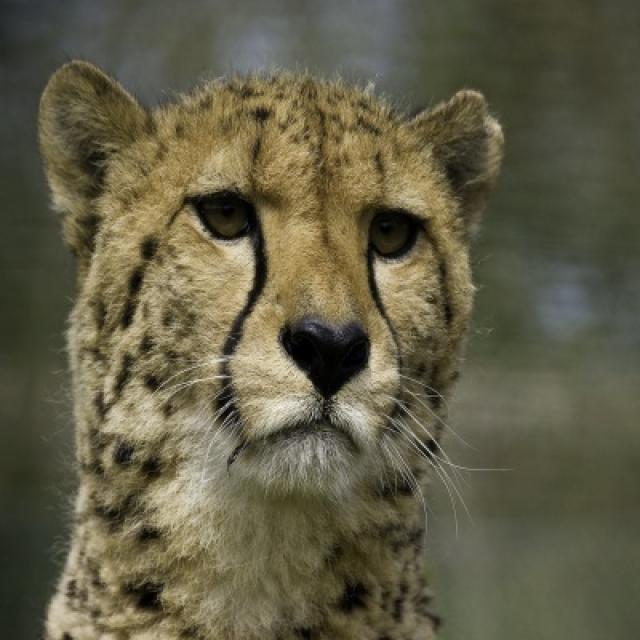Cheetah: (37, 59, 506, 638)
